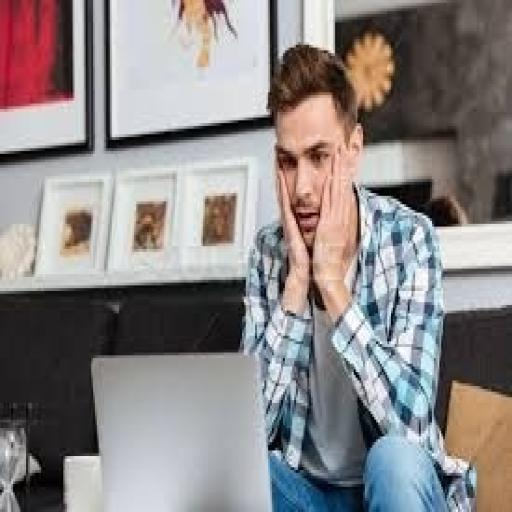using_laptop: (88, 347, 274, 509)
